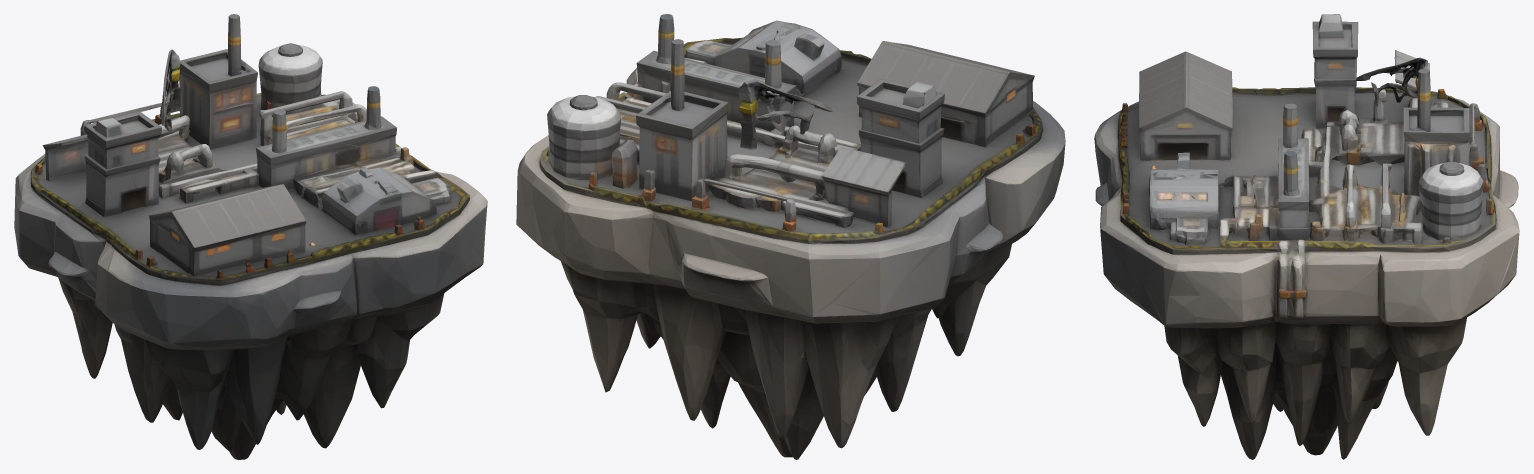
File: industrial-island-ai.glb
The picture shows the model from 3 angles, left to right: view 1: azimuth 30°, elevation 25°; view 2: azimuth 150°, elevation 25°; view 3: azimuth 270°, elevation 25°; orthographic projection. The views are drawn at different scales.
Parts seen in each view (by area): view 1: geometry_0; view 2: geometry_0; view 3: geometry_0.
Part boxes in pixels (x1,y1,x2,y2): geometry_0: [14, 14, 487, 459]; geometry_0: [516, 14, 1065, 459]; geometry_0: [1094, 14, 1519, 459].
Bounding box in the file's own units: 0.9758 × 0.9975 × 0.9496.
1 material, 1 textured.
